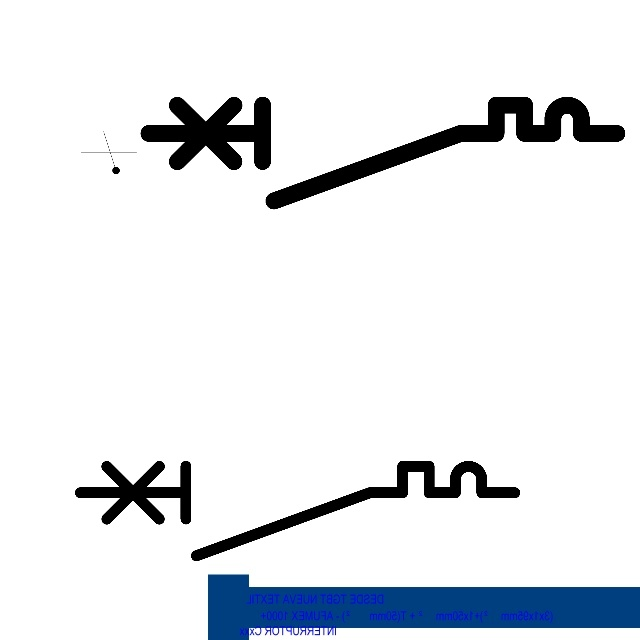interruptor_termomagnetico: (136, 93, 629, 213), (69, 455, 526, 567)
